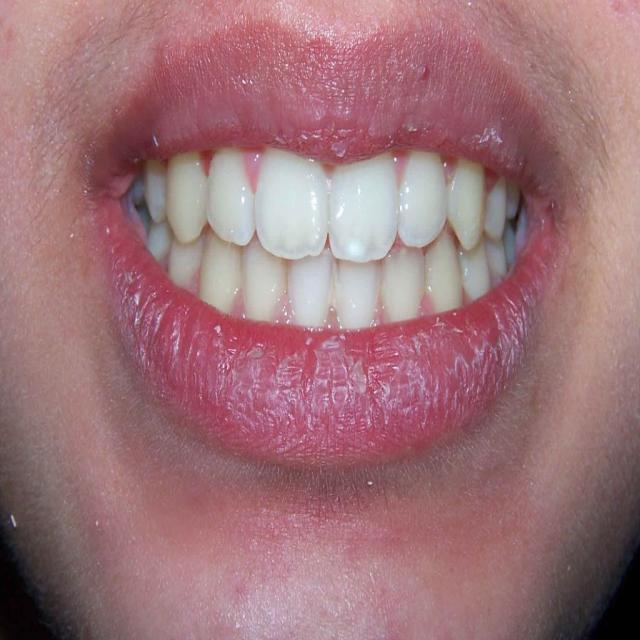tooth: (256, 154, 330, 255), (330, 158, 400, 260), (204, 147, 260, 241), (402, 153, 444, 255), (234, 248, 294, 318), (445, 160, 484, 248), (168, 158, 210, 236), (198, 239, 242, 313), (328, 265, 380, 325), (382, 259, 431, 319), (292, 266, 336, 326), (140, 154, 172, 226), (426, 249, 466, 306), (459, 248, 497, 304), (168, 239, 208, 289), (481, 174, 505, 241), (501, 182, 530, 228), (142, 216, 168, 266), (486, 245, 516, 273), (500, 231, 526, 259)
